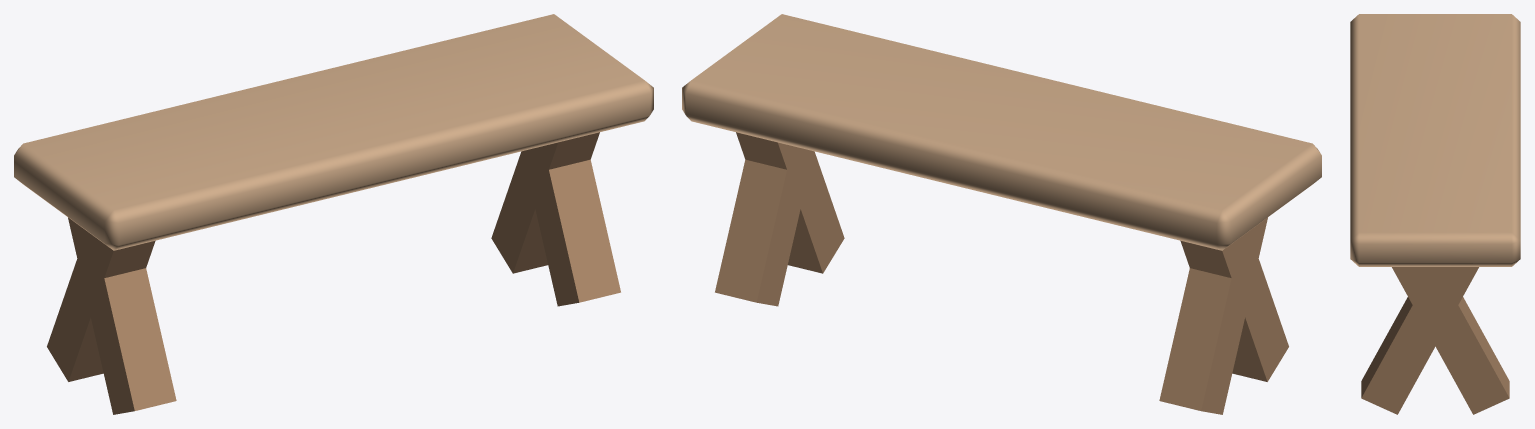
File: camp-bench.glb
3 renders of one model, left to right at view 1: azimuth 30°, elevation 25°; view 2: azimuth 150°, elevation 25°; view 3: azimuth 270°, elevation 25°, orthographic. The views are drawn at different scales.
Parts seen in each view (by area): view 1: Camp bench seat, Camp bench leg, Camp bench leg.002, Camp bench leg.001, Camp bench leg.003; view 2: Camp bench seat, Camp bench leg.001, Camp bench leg.003, Camp bench leg.002, Camp bench leg; view 3: Camp bench seat, Camp bench leg.002, Camp bench leg.003.
Part boxes in pixels (bbox=[...]): Camp bench seat: bbox=[14, 14, 653, 250]; Camp bench leg: bbox=[68, 217, 176, 414]; Camp bench leg.002: bbox=[522, 150, 620, 306]; Camp bench leg.001: bbox=[47, 231, 155, 381]; Camp bench leg.003: bbox=[491, 132, 599, 273]; Camp bench seat: bbox=[682, 14, 1321, 250]; Camp bench leg.001: bbox=[1159, 217, 1267, 414]; Camp bench leg.003: bbox=[715, 146, 806, 306]; Camp bench leg.002: bbox=[736, 132, 844, 273]; Camp bench leg: bbox=[1180, 237, 1288, 381]; Camp bench seat: bbox=[1350, 14, 1520, 266]; Camp bench leg.002: bbox=[1361, 267, 1478, 414]; Camp bench leg.003: bbox=[1392, 267, 1509, 414].
Size of the model in its own units: 2.1 by 0.8308 by 0.67.
